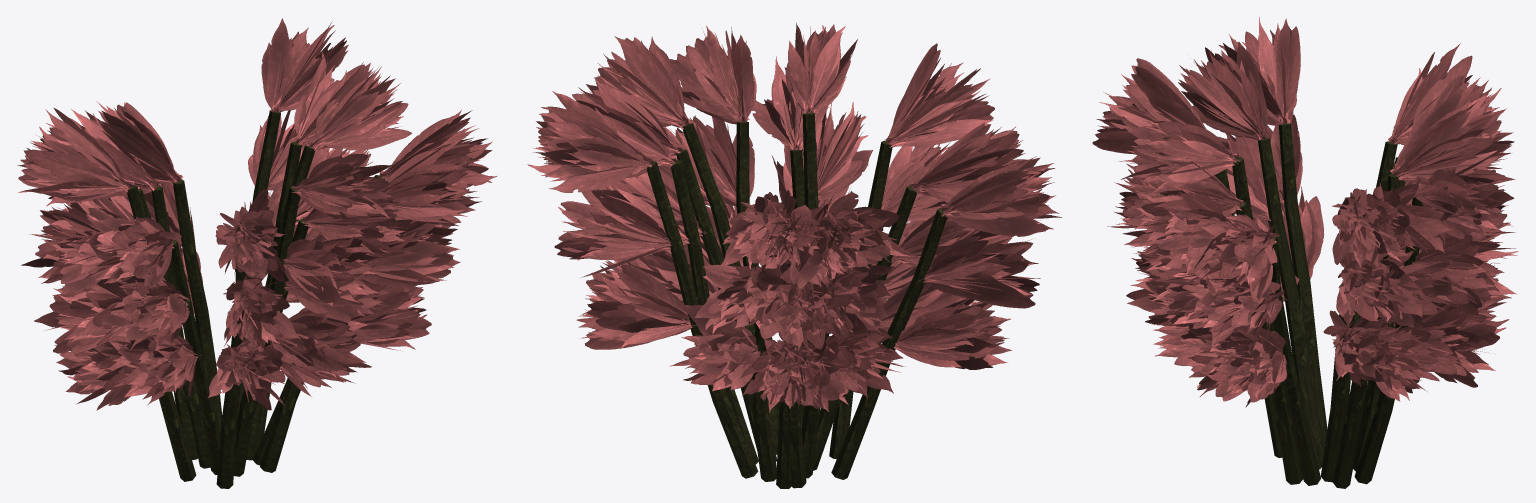
File: understory_ginger_v02.fbx
The picture shows the model from 3 angles, left to right: view 1: azimuth 30°, elevation 25°; view 2: azimuth 150°, elevation 25°; view 3: azimuth 270°, elevation 25°; orthographic projection. The views are drawn at different scales.
Visible parts, largest first — view 1: understory_ginger_v02; view 2: understory_ginger_v02; view 3: understory_ginger_v02.
Part boxes in pixels (<box>): understory_ginger_v02: <box>17,18,497,488</box>; understory_ginger_v02: <box>527,22,1061,488</box>; understory_ginger_v02: <box>1092,17,1518,488</box>.
Bounding box in the file's own units: 159 × 124 × 122.
Materials: 2 (2 with a texture image).
